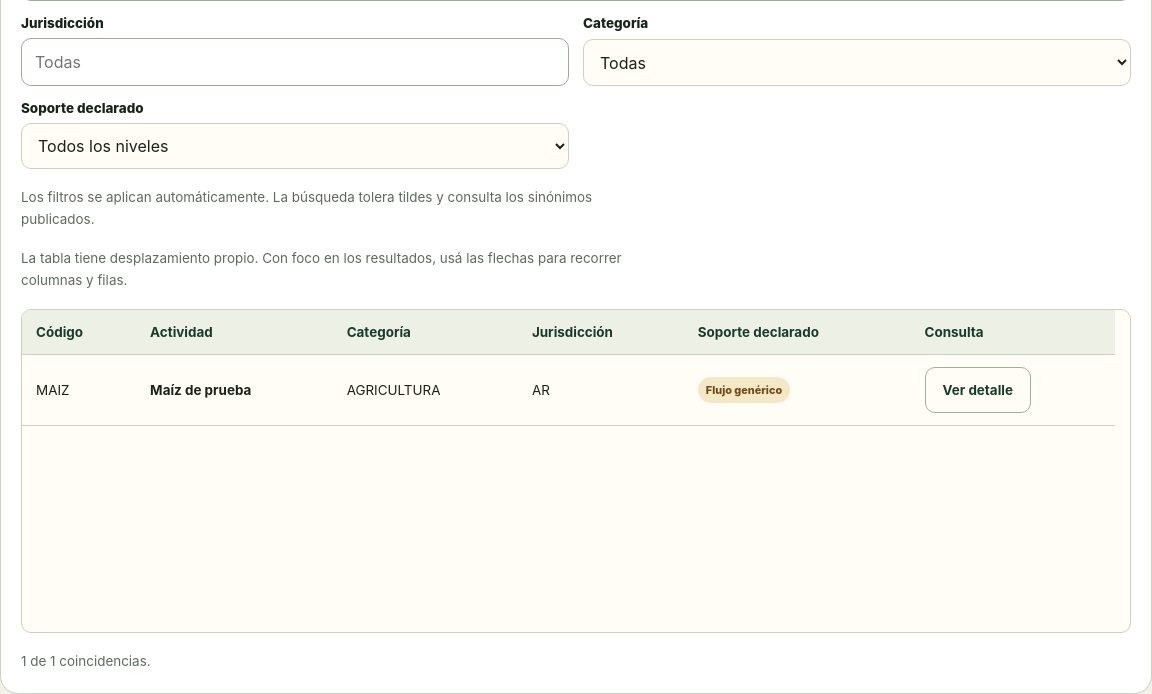
Test: CatalogReader › labels legacy provenance without treating a legacy support string as validation
(page scrolled)
Click the button with aria-label "Ver detalle de Maíz".
click(978, 390)  # box [924,367,1031,413]
(page scrolled)
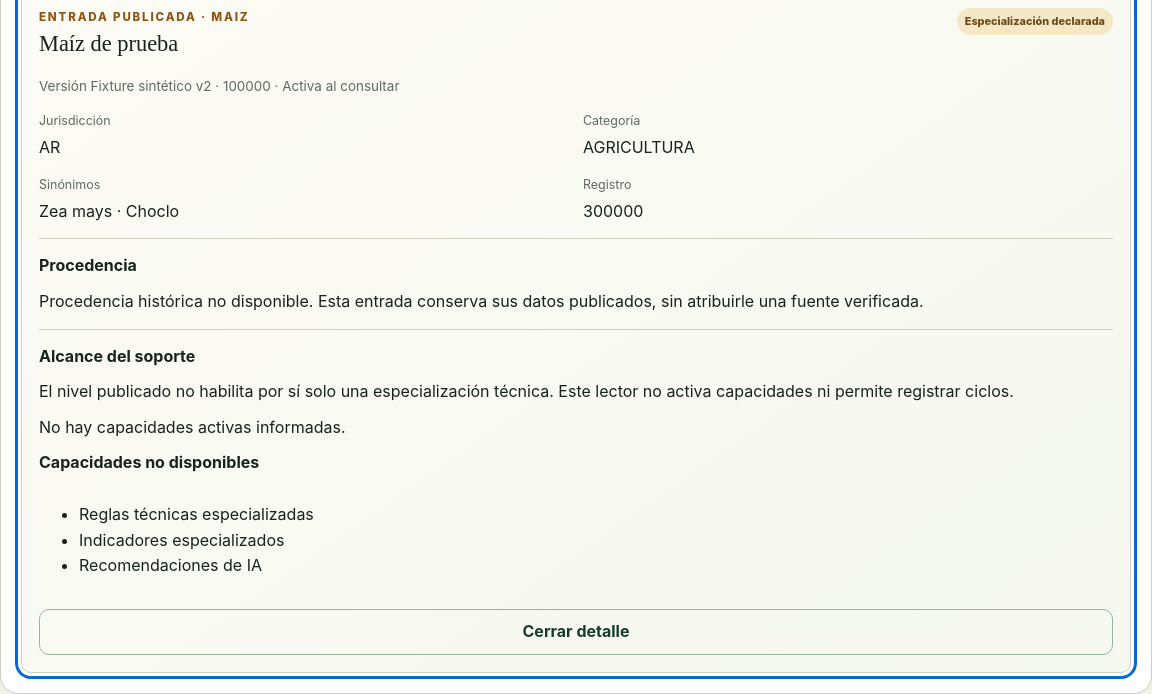
expect the text "Especialización declarada" is shown: met, box [957,8,1113,35]
expect the text "Procedencia histórica no disponible" is shown: met, box [39,291,924,311]
expect the text "no habilita por sí solo" is shown: met, box [39,381,1014,401]
